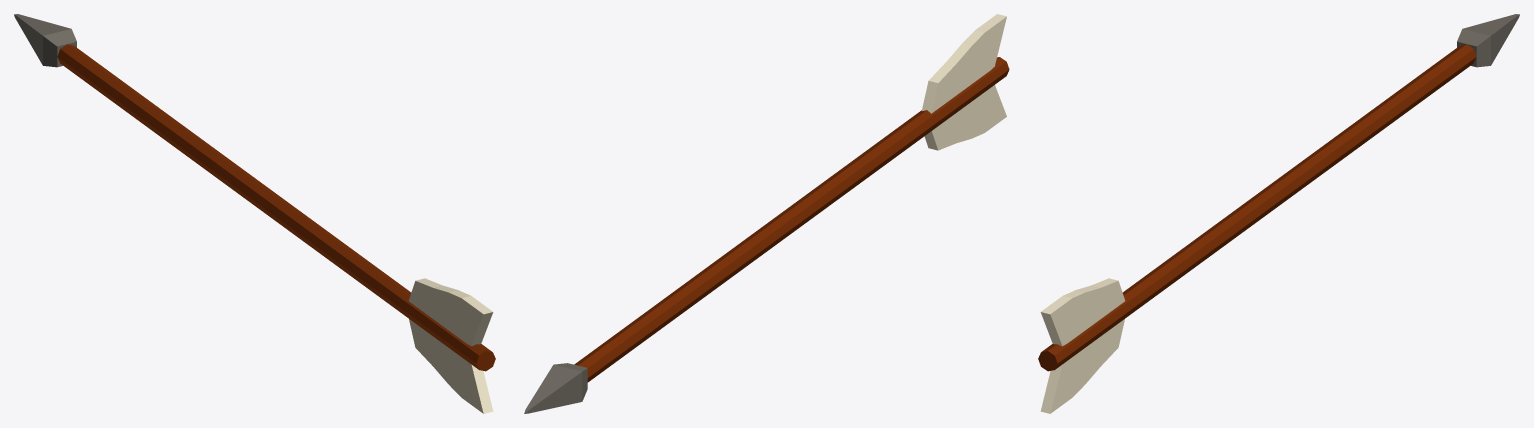
File: arrow.glb
3 views of the same model, side by side, from view 1: azimuth 30°, elevation 25°; view 2: azimuth 150°, elevation 25°; view 3: azimuth 330°, elevation 25° (orthographic).
Visible parts, largest first — view 1: Body, Feathers, Cube; view 2: Body, Feathers, Cube; view 3: Body, Feathers, Cube.
Part boxes in pixels (<box>): Body: <box>57,44,495,371</box>; Feathers: <box>408,278,493,413</box>; Cube: <box>14,14,76,67</box>; Body: <box>574,57,1009,382</box>; Feathers: <box>922,14,1006,150</box>; Cube: <box>524,363,587,413</box>; Body: <box>1038,44,1476,371</box>; Feathers: <box>1040,278,1125,413</box>; Cube: <box>1457,14,1519,67</box>.
Size of the model in its own units: 0.1471 by 0.4878 by 4.21.
